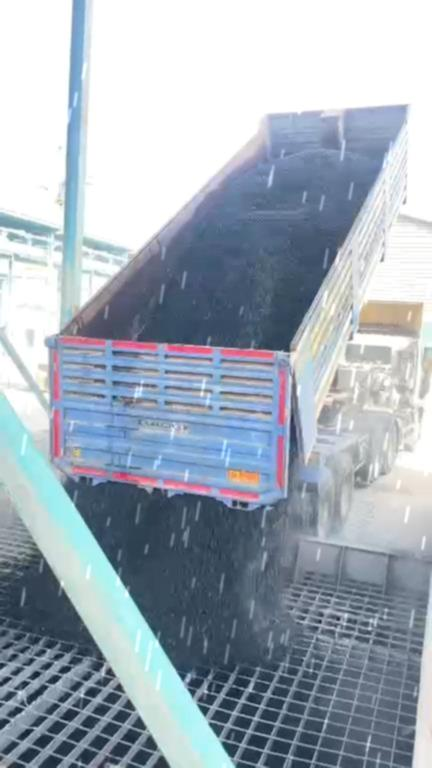gravel: (139, 150, 377, 348), (67, 483, 297, 668), (6, 557, 92, 646)
